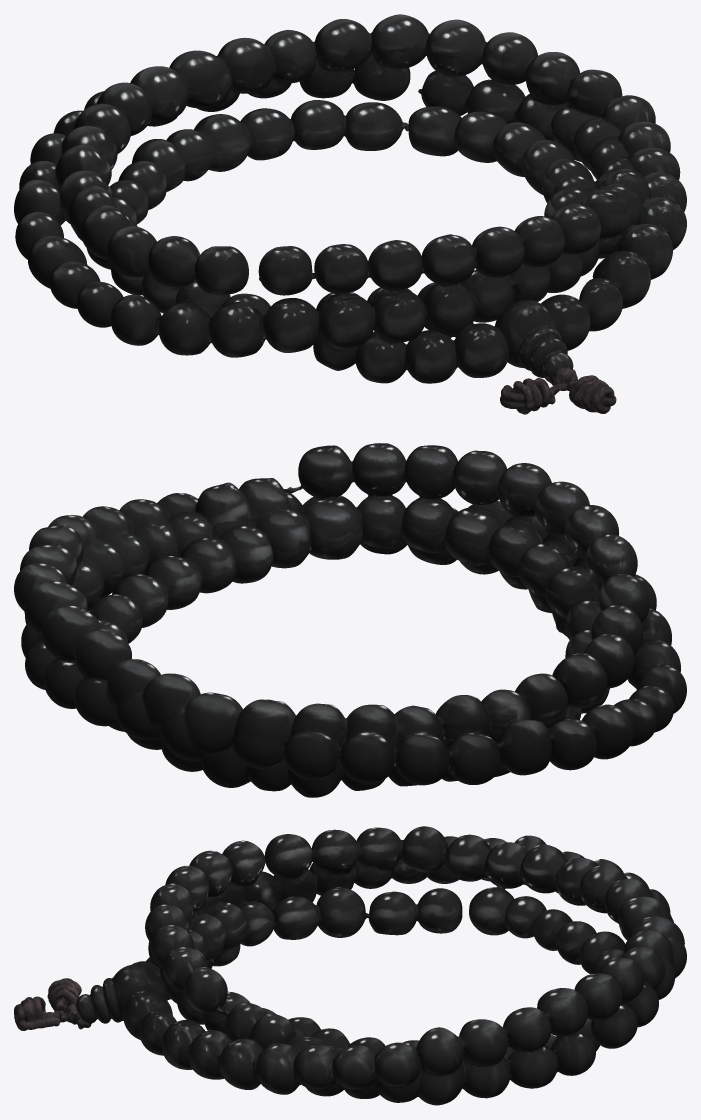
File: wood_ebony.glb
3 renders of one model, top to bottom at view 1: azimuth 30°, elevation 25°; view 2: azimuth 150°, elevation 25°; view 3: azimuth 270°, elevation 25°, orthographic. The views are drawn at different scales.
Parts seen in each view (by area): view 1: Mesh_0.001; view 2: Mesh_0.001; view 3: Mesh_0.001.
Boxes of the visible parts, left/top/right/bottom form: Mesh_0.001: left=14, top=14, right=686, bottom=414; Mesh_0.001: left=14, top=443, right=686, bottom=797; Mesh_0.001: left=14, top=826, right=686, bottom=1105.
Bounding box in the file's own units: 0.3151 × 0.07 × 0.3557.
1 material, 1 textured.
